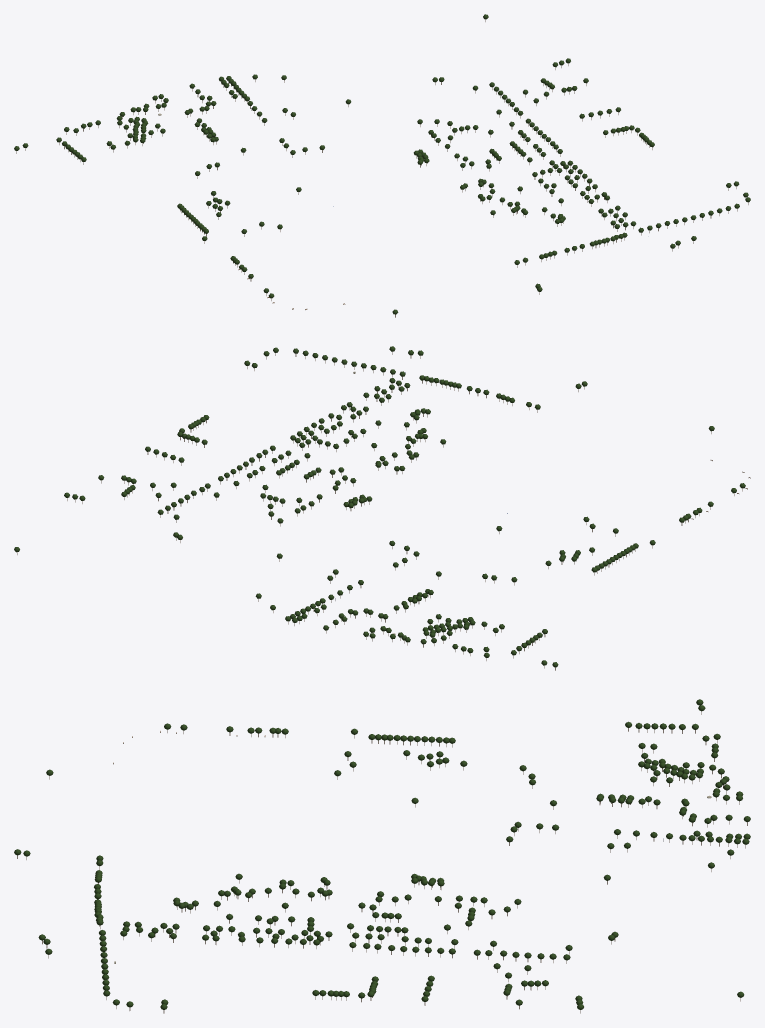
Rendered from props.glb.
3 renders of one model, top to bottom at view 1: azimuth 30°, elevation 25°; view 2: azimuth 150°, elevation 25°; view 3: azimuth 270°, elevation 25°, orthographic. The views are drawn at different scales.
Visible parts, largest first — view 1: T_E0_N7_props; view 2: T_E0_N7_props; view 3: T_E0_N7_props.
Boxes of the visible parts, x1=… form: T_E0_N7_props: x1=14, y1=14, x2=750, y2=317; T_E0_N7_props: x1=14, y1=346, x2=750, y2=670; T_E0_N7_props: x1=14, y1=699, x2=750, y2=1013.
Bounding box in the file's own units: 489 × 9.19 × 495.
